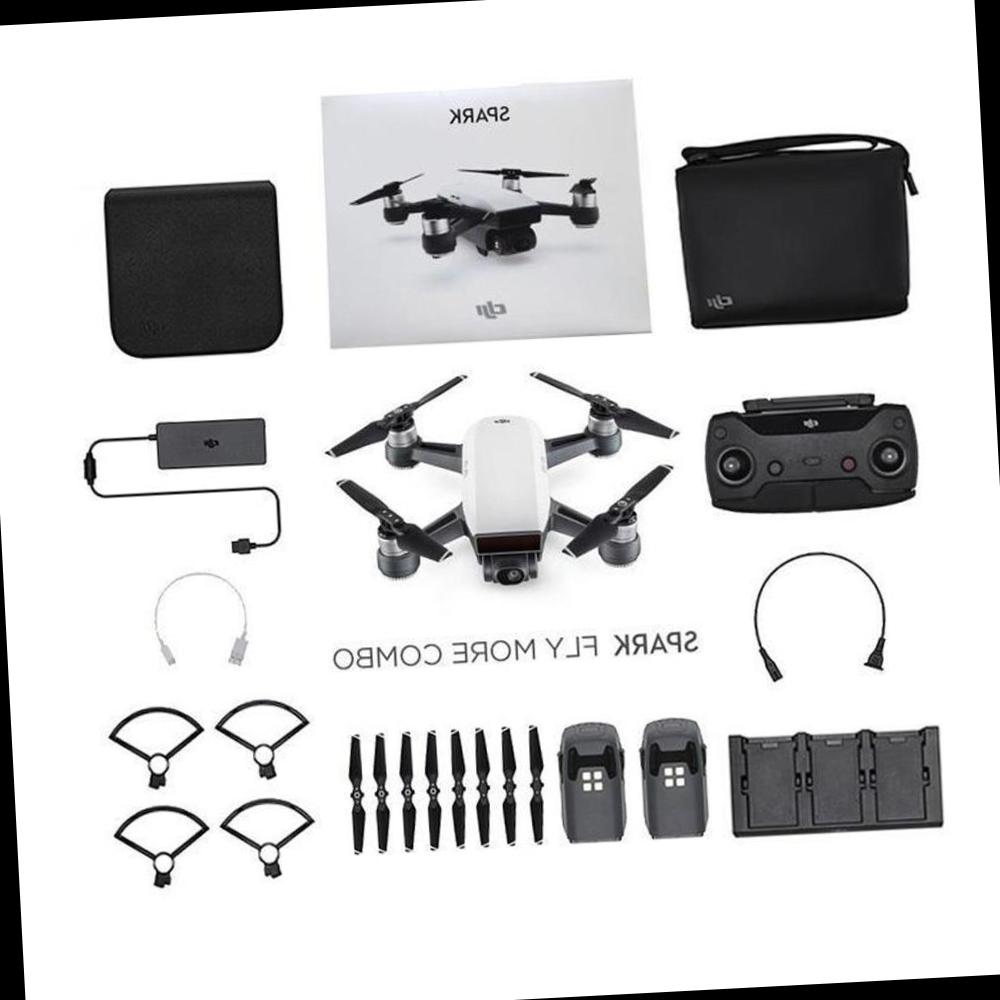drone: (318, 360, 690, 605)
